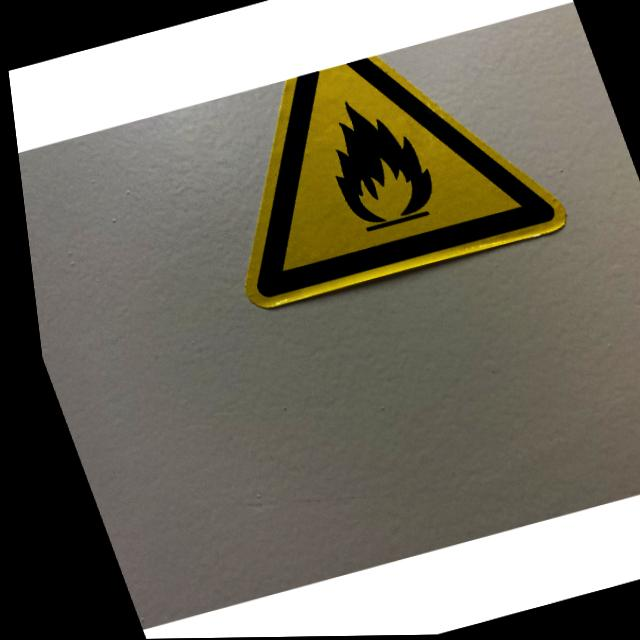fire hazard: (167, 23, 572, 314)
